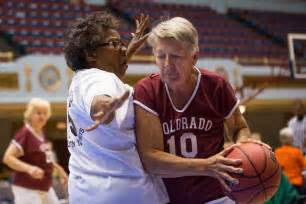basketball: (222, 143, 279, 203)
